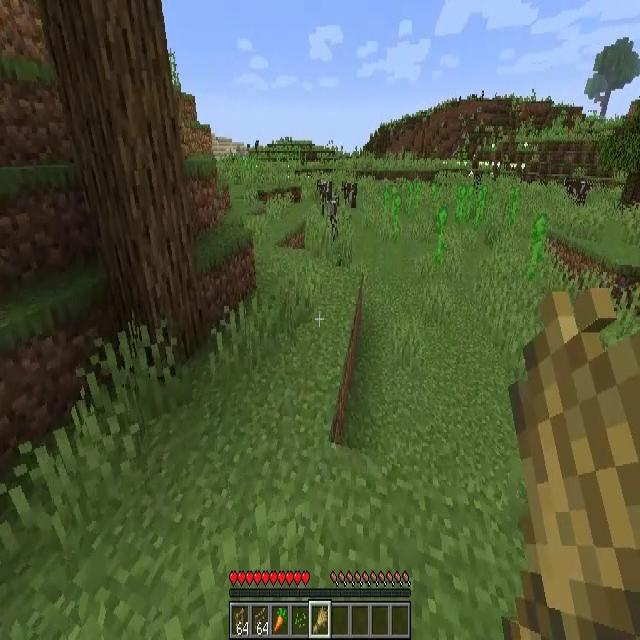cow: (562, 177, 590, 205), (318, 178, 332, 210), (327, 196, 338, 236), (342, 182, 356, 208)
